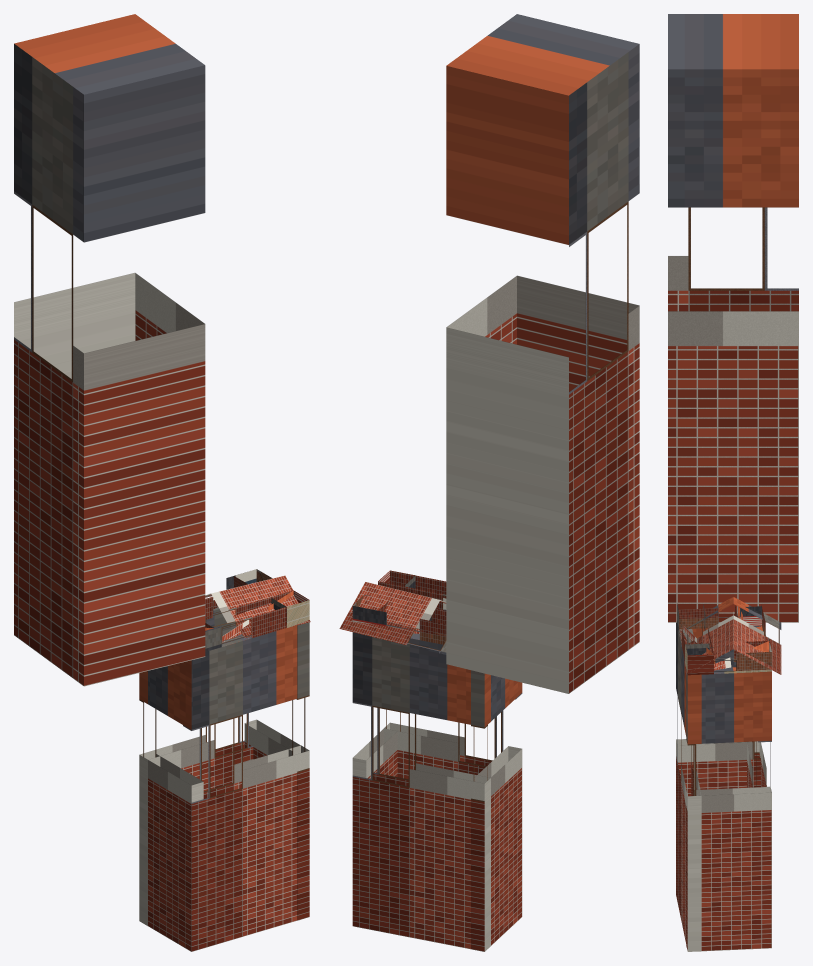
3 renders of one model, left to right at view 1: azimuth 30°, elevation 25°; view 2: azimuth 150°, elevation 25°; view 3: azimuth 270°, elevation 25°, orthographic. The views are drawn at different scales.
Parts seen in each view (by area): view 1: 238625197__chimney_0_xb, 238625197__wall_2_xb, 238625197__wall_1_xb, 238625197__wall_0_xb, 238625197__wall_3_xb, 238625197_roof_-1_xb, 238625197__cornice_2, 238625197__cornice_3; view 2: 238625197__chimney_0_xb, 238625197__wall_0_xb, 238625197__wall_1_xb, 238625197__wall_2_xb, 238625197_roof_1_xb, 238625197__wall_3_xb, 238625197__cornice_0, 238625197__cornice_2; view 3: 238625197__chimney_0_xb, 238625197__wall_3_xb, 238625197__wall_2_xb, 238625197__wall_1_xb, 238625197_roof_1_xb, 238625197__cornice_3, 238625197_roof_-1_xb, 238625197__cornice_1, 238625197__cornice_2, 238625197__wall_0_xb.
Boxes of the visible parts, x1,y1,x2,y2 form: 238625197__chimney_0_xb: (14,14,205,686); 238625197__wall_2_xb: (183,625,309,951); 238625197__wall_1_xb: (139,660,203,951); 238625197__wall_0_xb: (139,607,253,925); 238625197__wall_3_xb: (244,622,309,920); 238625197_roof_-1_xb: (211,575,310,641); 238625197__cornice_2: (205,590,303,651); 238625197__cornice_3: (234,569,309,627); 238625197__chimney_0_xb: (446,14,639,693); 238625197__wall_0_xb: (352,632,490,951); 238625197__wall_1_xb: (471,670,522,951); 238625197__wall_2_xb: (384,609,522,779); 238625197_roof_1_xb: (339,582,446,654); 238625197__wall_3_xb: (352,709,400,778); 238625197__cornice_0: (352,595,446,644); 238625197__cornice_2: (378,570,446,609); 238625197__chimney_0_xb: (668,14,798,622); 238625197__wall_3_xb: (686,667,771,951); 238625197__wall_2_xb: (676,622,701,951); 238625197__wall_1_xb: (676,622,760,796); 238625197_roof_1_xb: (733,597,781,674); 238625197__cornice_3: (685,641,771,673); 238625197_roof_-1_xb: (685,597,733,674); 238625197__cornice_1: (677,603,761,629); 238625197__cornice_2: (677,604,713,675); 238625197__wall_0_xb: (745,626,771,787).
Size of the model in its own units: 0.2924 by 1.05 by 0.15.
Materials: 1 (1 with a texture image).
